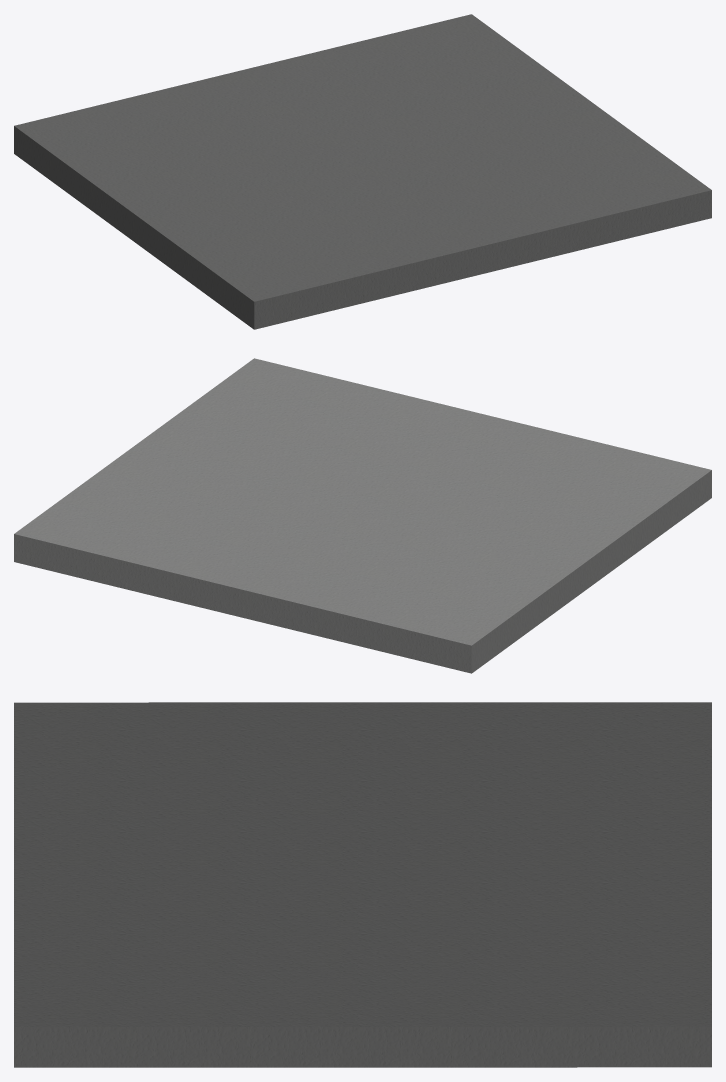
The model's file is Ceiling_100a4a81.obj.
3 renders of one model, top to bottom at view 1: azimuth 30°, elevation 25°; view 2: azimuth 150°, elevation 25°; view 3: azimuth 270°, elevation 25°, orthographic. The views are drawn at different scales.
Parts seen in each view (by area): view 1: Ceiling_100a4a81; view 2: Ceiling_100a4a81; view 3: Ceiling_100a4a81.
Boxes of the visible parts, bbox=[...] form: Ceiling_100a4a81: bbox=[14, 14, 711, 329]; Ceiling_100a4a81: bbox=[14, 358, 711, 673]; Ceiling_100a4a81: bbox=[14, 702, 711, 1067].
Size of the model in its own units: 6.36 by 0.3736 by 5.78.
